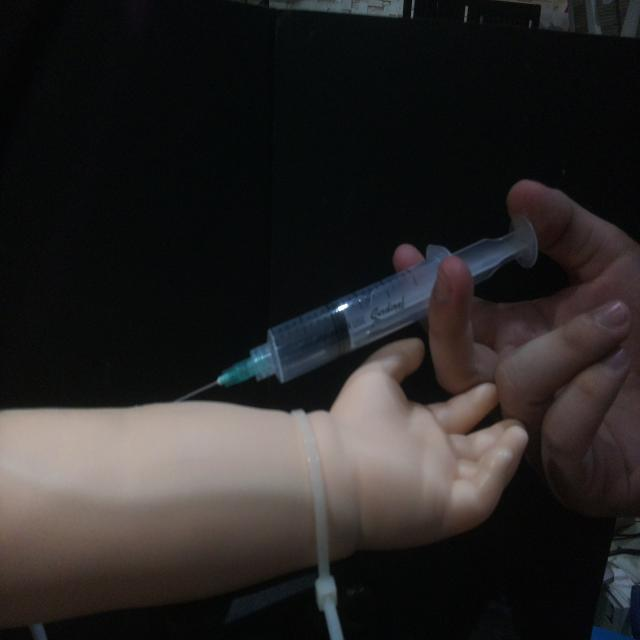17deg: (170, 211, 541, 405)
